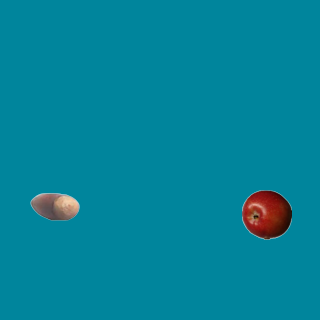Apple Braeburn: (241, 189, 291, 239)
Hazelnut: (29, 181, 79, 231)
